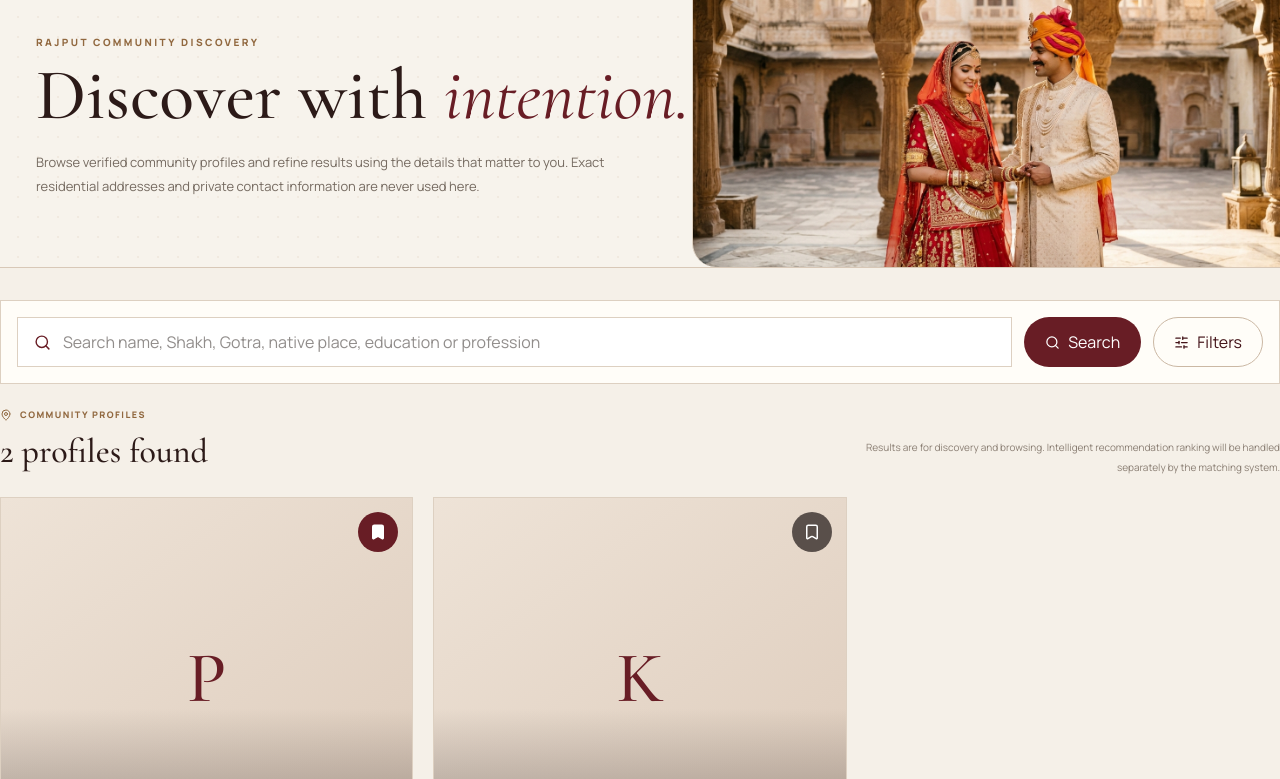
Scenario: DiscoverPage › free member sees advanced filters locked and advanced values are not sent
Click the button "Filters".
click(1208, 342)  # box top-left (1153, 317), bottom-right (1263, 367)
(page scrolled)
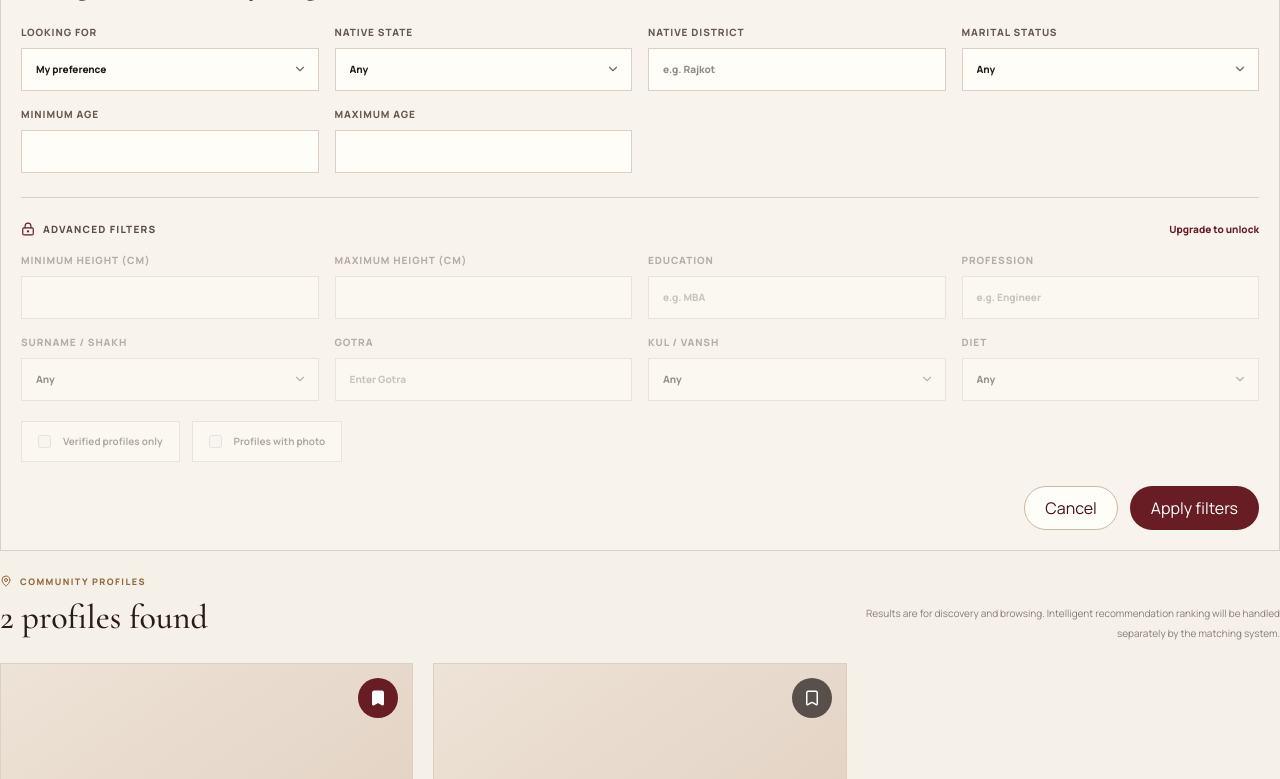
Result: the dropdown labelled "Surname / Shakh" is disabled at top-left (21, 358), bottom-right (318, 400)
Result: the field labelled "Gotra" is disabled at top-left (334, 358), bottom-right (632, 400)
Result: the dropdown labelled "Kul / Vansh" is disabled at top-left (648, 358), bottom-right (946, 400)
